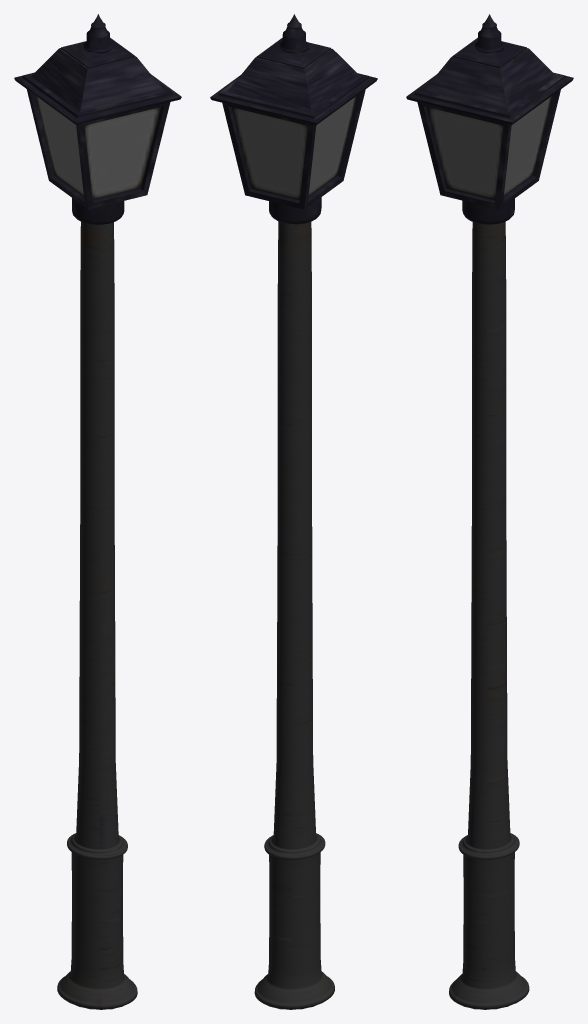
The model's file is lampost.obj.
3 views of the same model, side by side, from view 1: azimuth 30°, elevation 25°; view 2: azimuth 150°, elevation 25°; view 3: azimuth 330°, elevation 25° (orthographic).
Parts seen in each view (by area): view 1: defaultMaterial004, defaultMaterial002, defaultMaterial, defaultMaterial003, defaultMaterial001; view 2: defaultMaterial004, defaultMaterial002, defaultMaterial, defaultMaterial003, defaultMaterial001; view 3: defaultMaterial004, defaultMaterial002, defaultMaterial, defaultMaterial003, defaultMaterial001.
Boxes of the visible parts, x1=… form: defaultMaterial004: x1=57, y1=222, x2=137, y2=1009; defaultMaterial002: x1=26, y1=89, x2=170, y2=209; defaultMaterial: x1=14, y1=37, x2=181, y2=124; defaultMaterial003: x1=72, y1=198, x2=124, y2=224; defaultMaterial001: x1=83, y1=14, x2=112, y2=53; defaultMaterial004: x1=254, y1=221, x2=334, y2=1009; defaultMaterial002: x1=222, y1=89, x2=365, y2=209; defaultMaterial: x1=210, y1=38, x2=377, y2=125; defaultMaterial003: x1=269, y1=197, x2=321, y2=224; defaultMaterial001: x1=279, y1=14, x2=308, y2=53; defaultMaterial004: x1=449, y1=221, x2=529, y2=1009; defaultMaterial002: x1=417, y1=89, x2=560, y2=209; defaultMaterial: x1=406, y1=37, x2=573, y2=124; defaultMaterial003: x1=462, y1=198, x2=514, y2=224; defaultMaterial001: x1=475, y1=14, x2=504, y2=53.
Size of the model in its own units: 4.02 by 35.53 by 4.02.
Materials: 1 (1 with a texture image).
